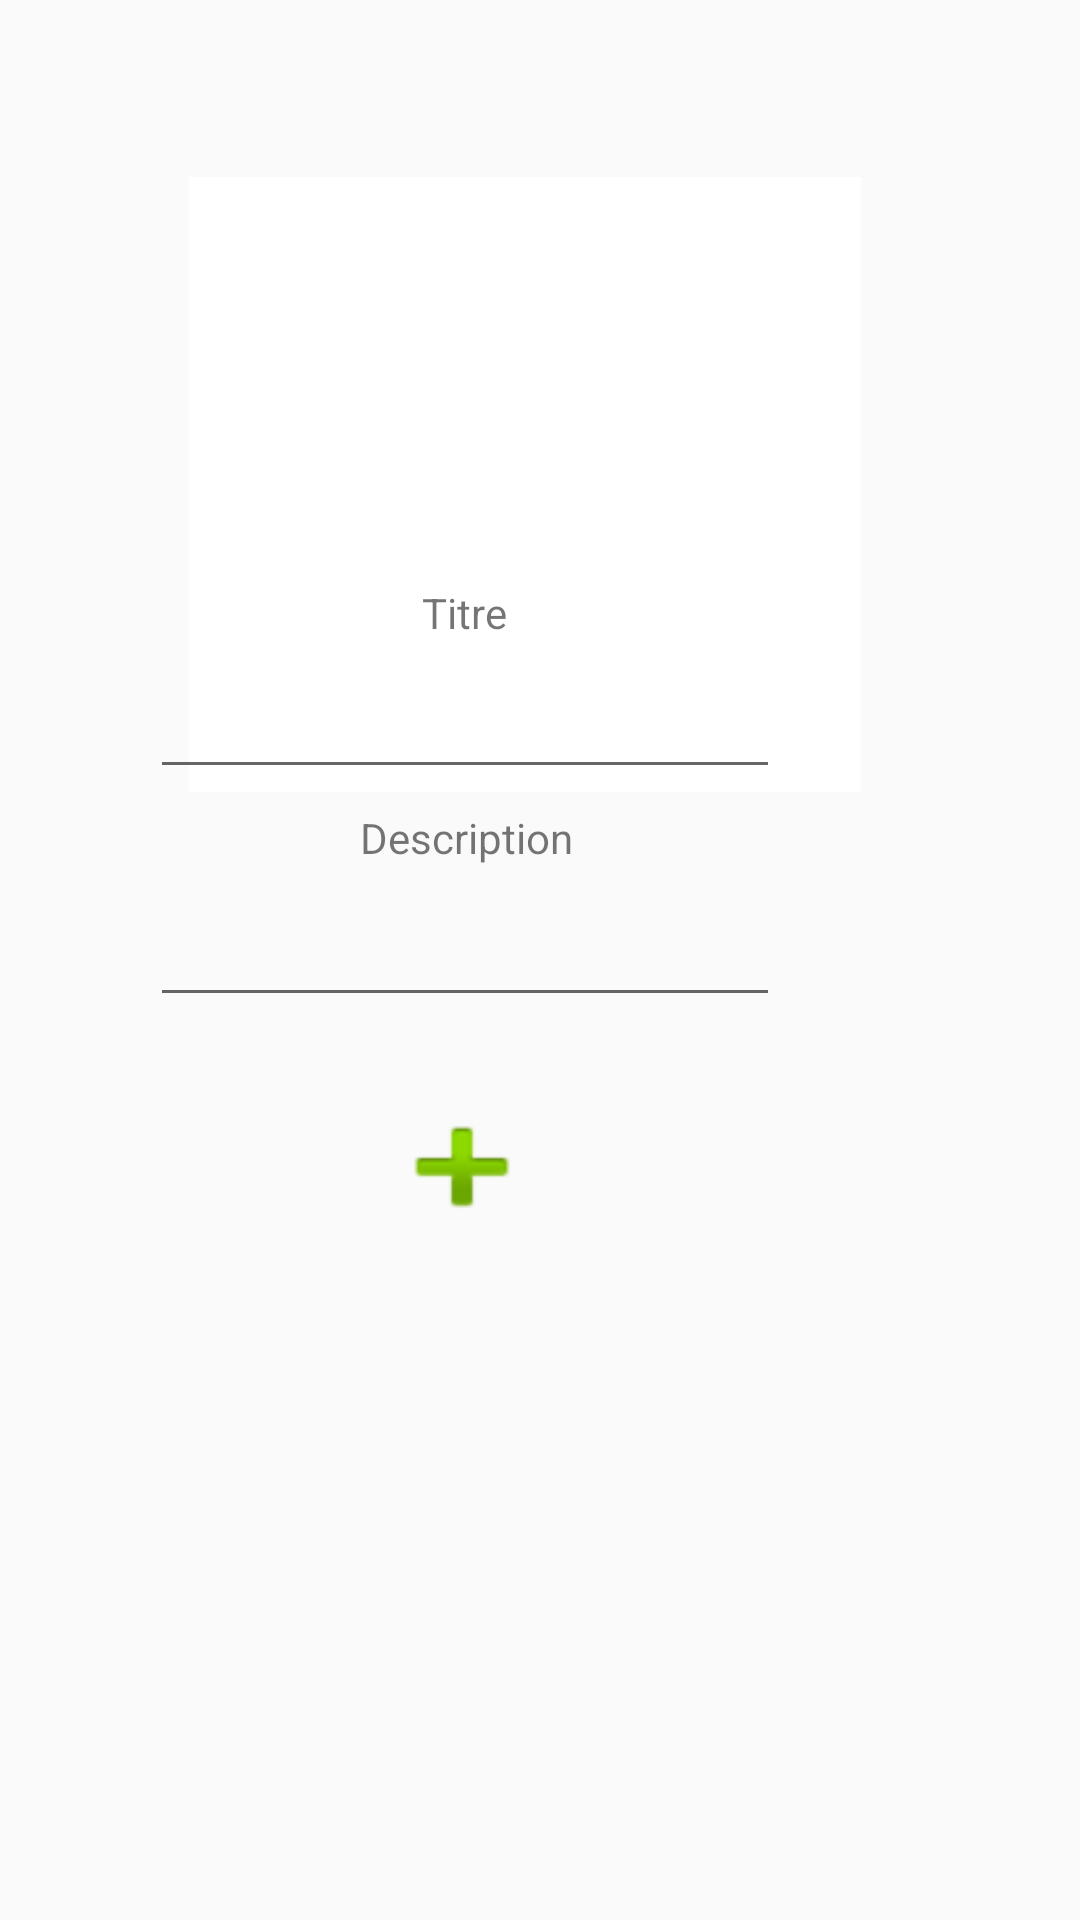

Named icons in this screenshot (1080w x 1920h) and their centers, [x,y]:
add: [462,1167]
